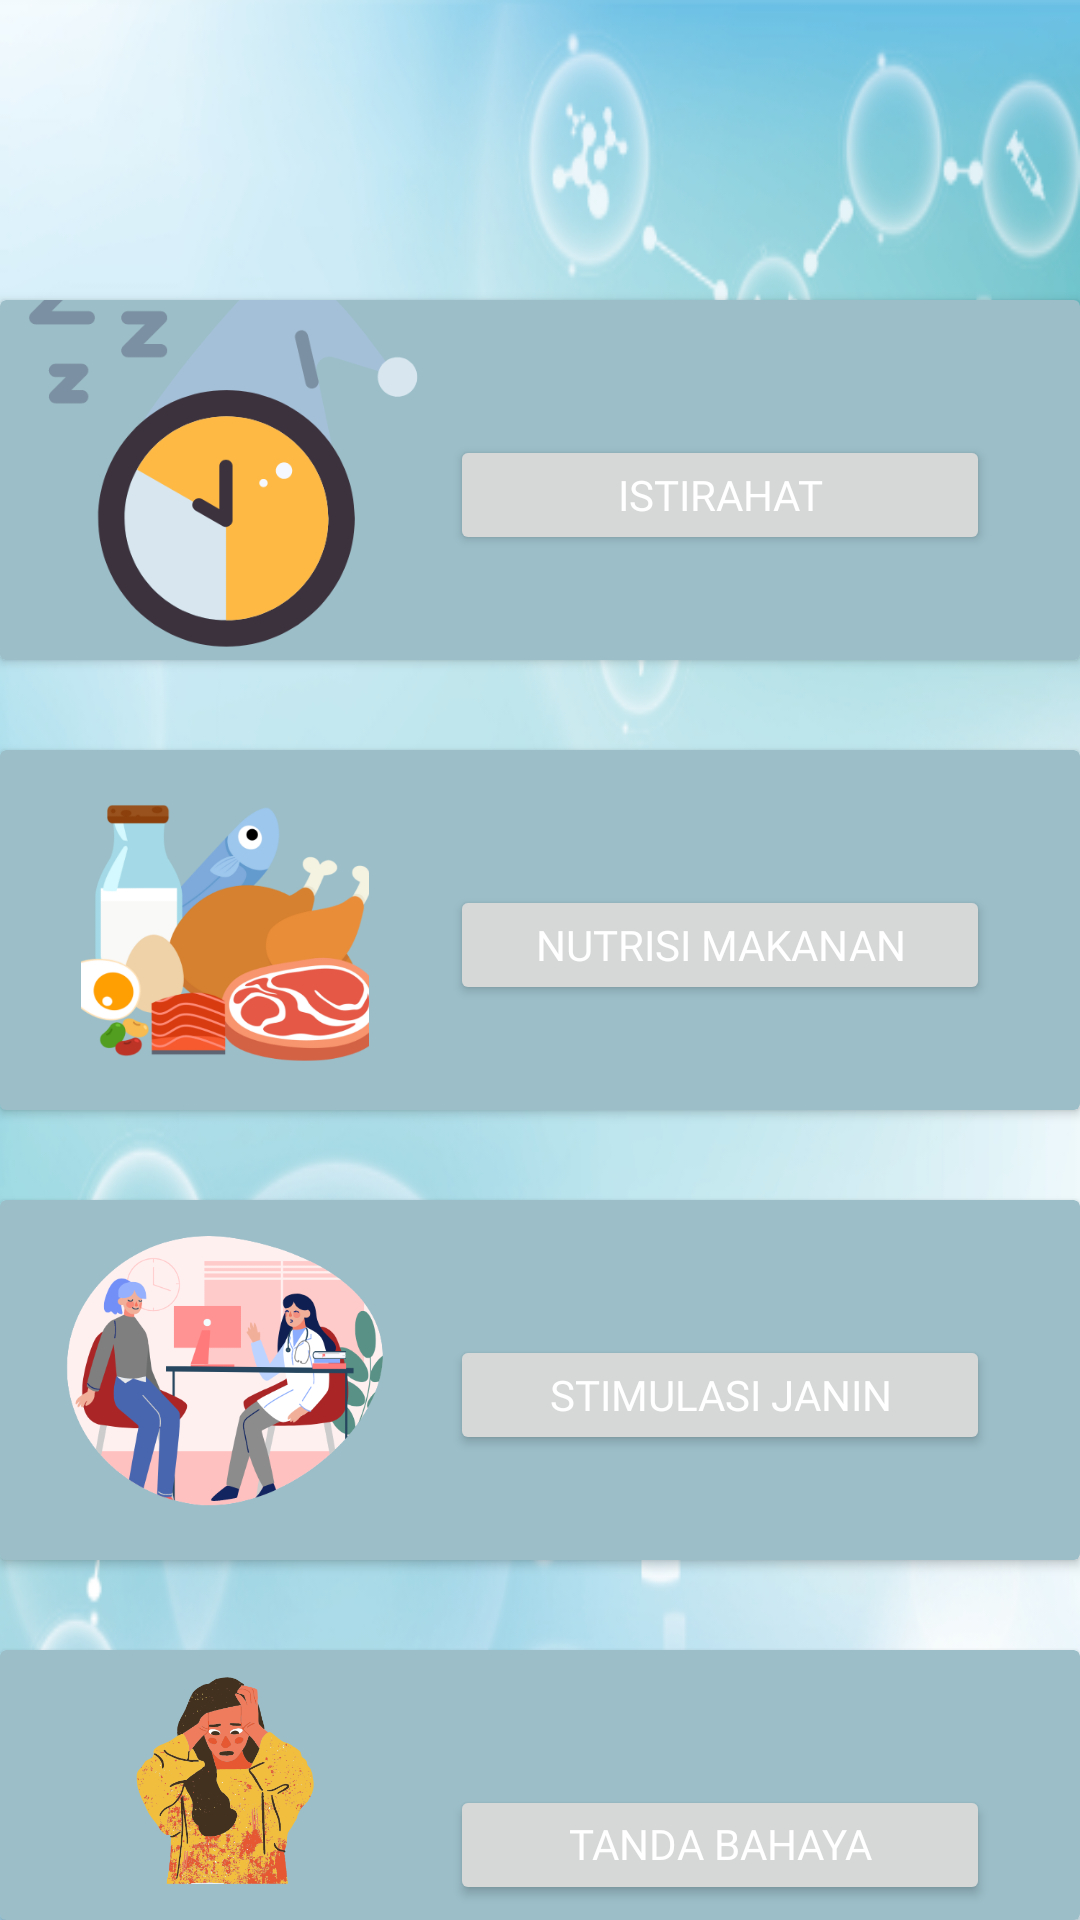

Point at icon controls on the screen. Image size 1080*1920, points as (x=x, y=y).
ebahaya: (x=225, y=1780)
enutri: (x=225, y=933)
